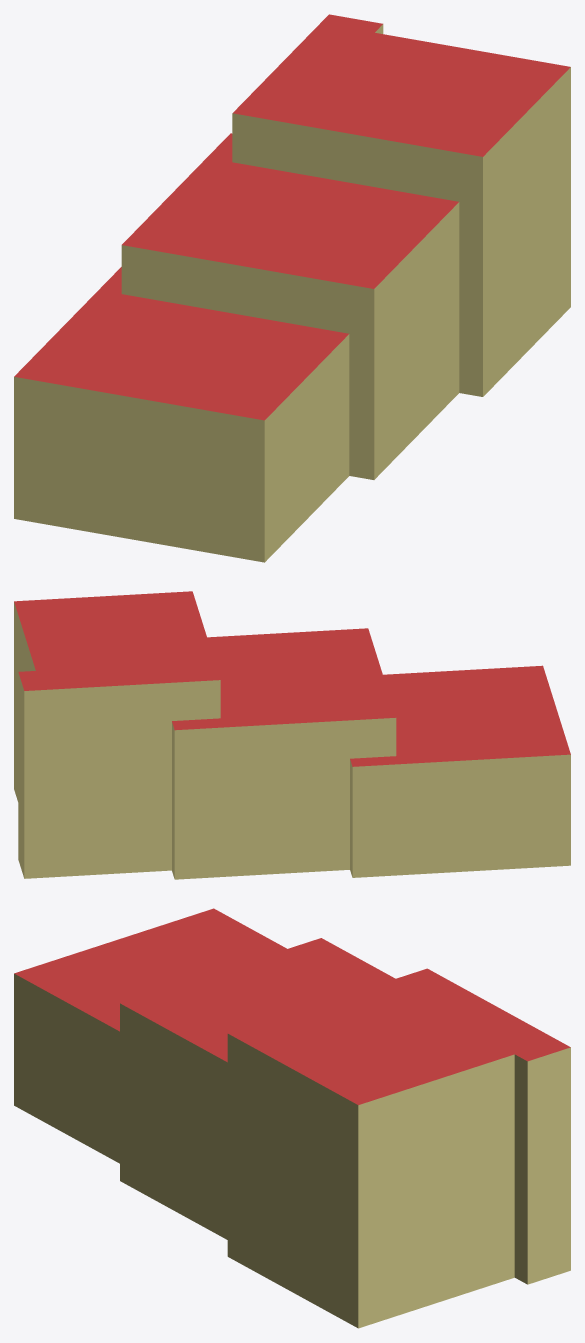
3 renders of one model, top to bottom at view 1: azimuth 30°, elevation 25°; view 2: azimuth 150°, elevation 25°; view 3: azimuth 270°, elevation 25°, orthographic. The views are drawn at different scales.
Bounding box in the file's own units: 35.96 × 29.39 × 13.
